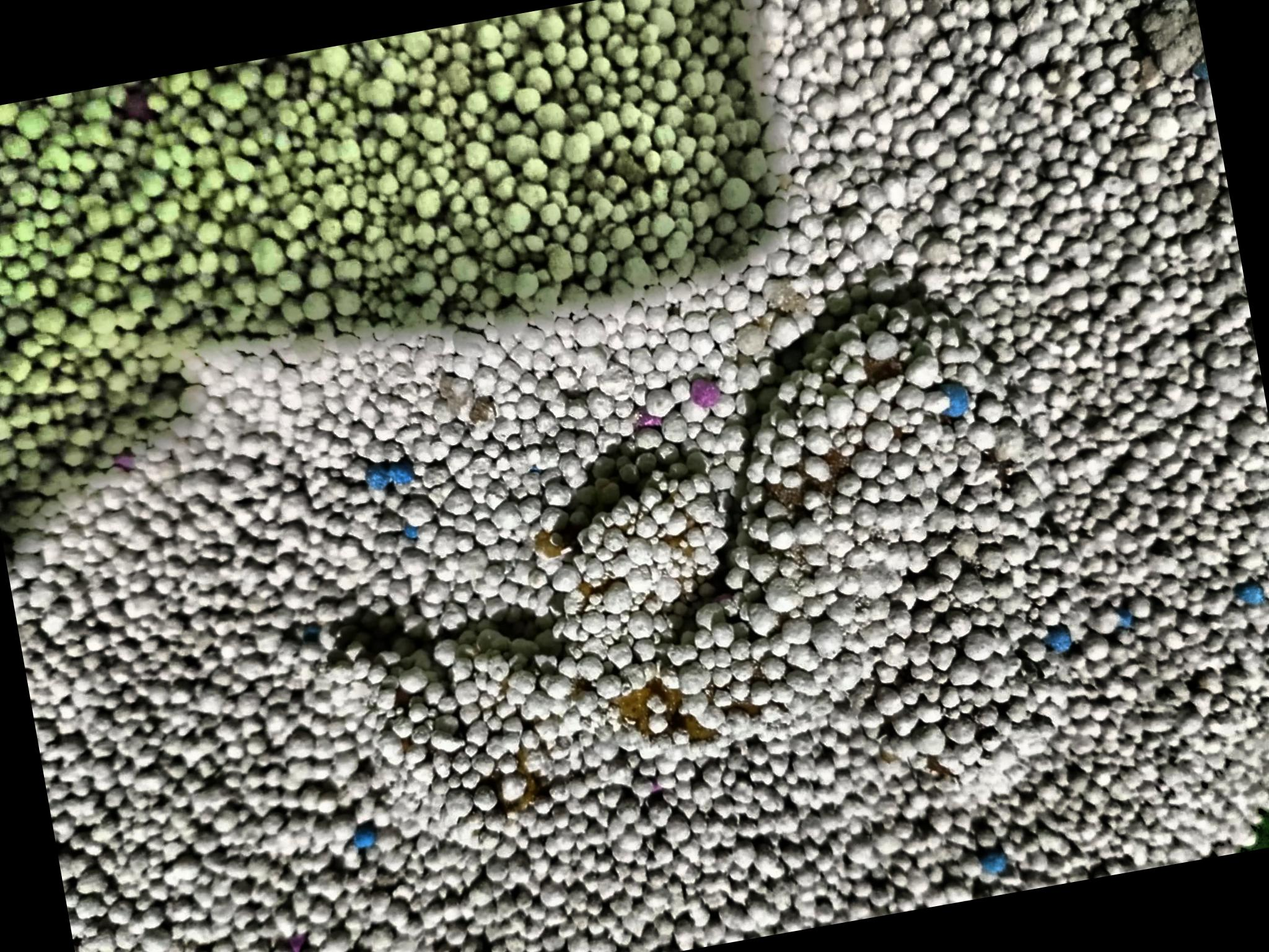poop: (333, 319, 918, 850)
